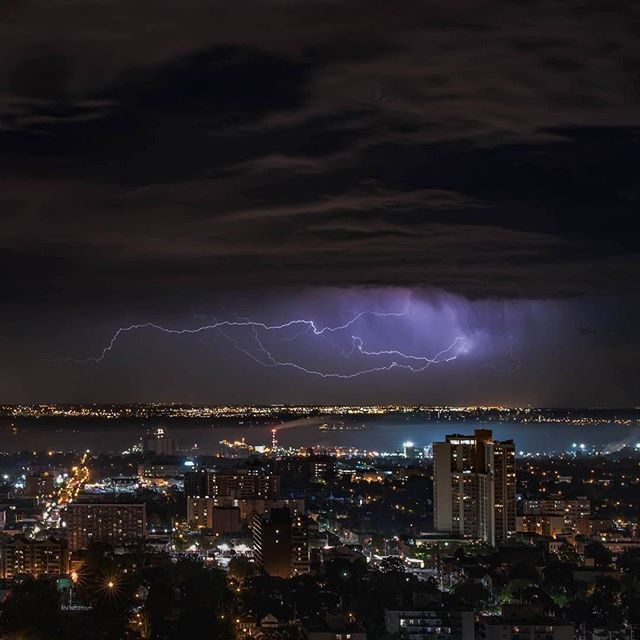building: (435, 431, 518, 547), (177, 463, 277, 537), (67, 494, 150, 571), (245, 504, 318, 582), (524, 492, 597, 543), (1, 530, 70, 583)
sky: (6, 1, 640, 396)
